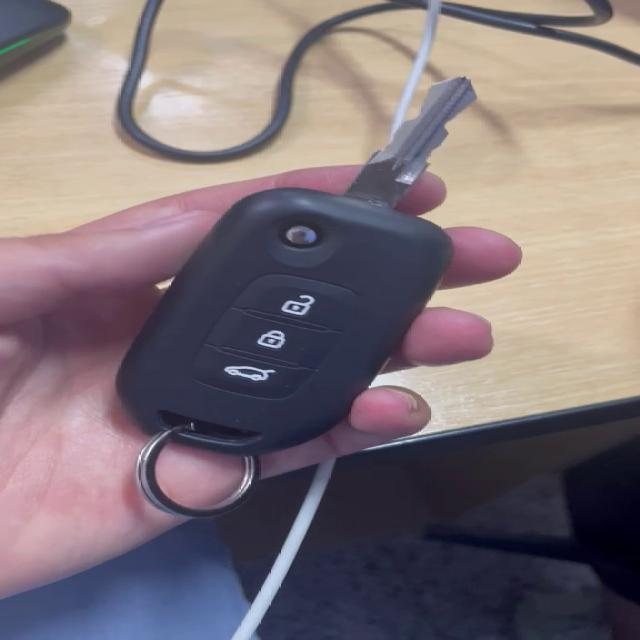llave-auto: (143, 60, 482, 510)
